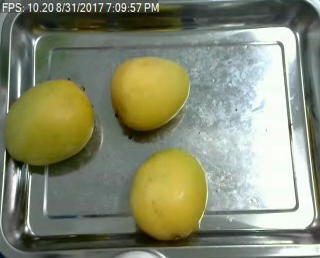Mango: (5, 77, 95, 166), (130, 150, 206, 239), (110, 56, 190, 132)
